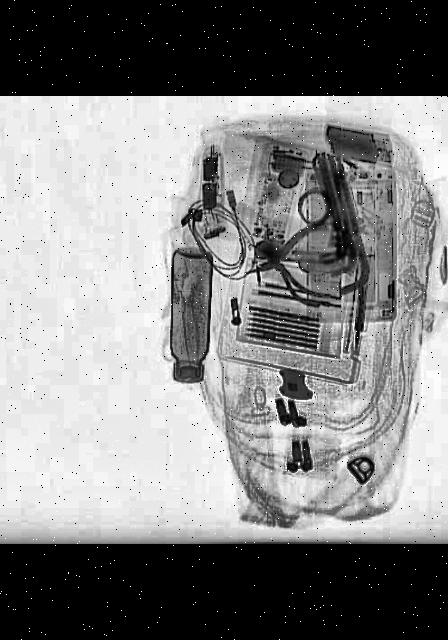Pliers: (241, 222, 344, 300)
